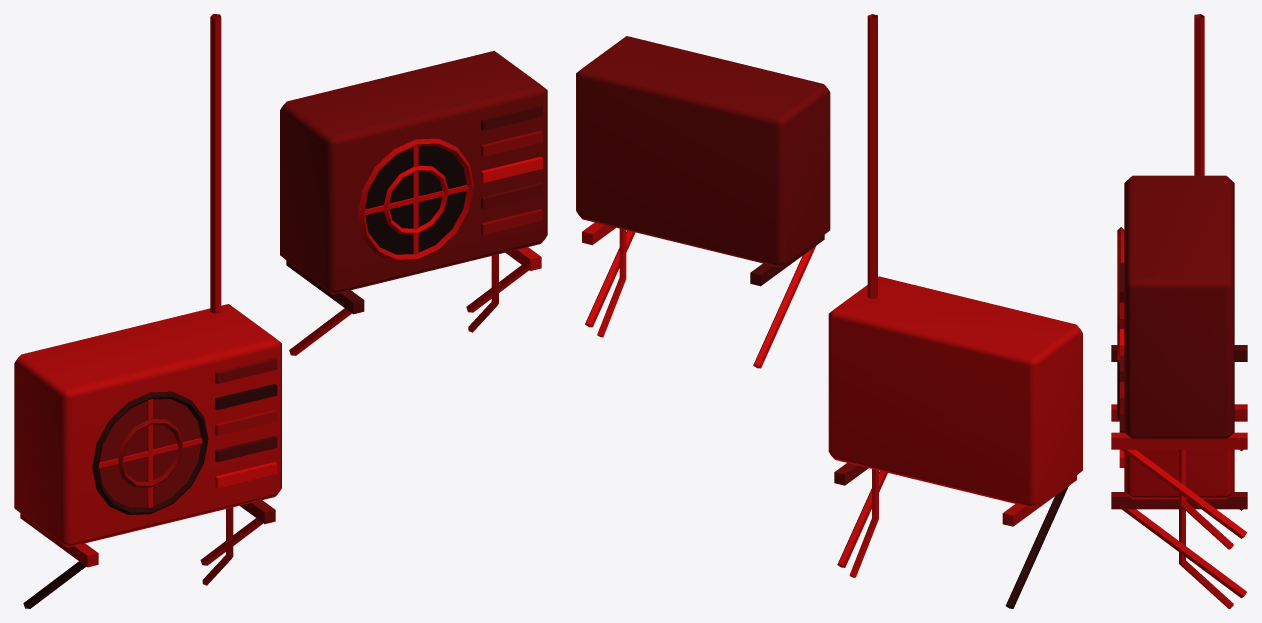
The model's file is ac_unit_b.glb.
The picture shows the model from 3 angles, left to right: view 1: azimuth 30°, elevation 25°; view 2: azimuth 150°, elevation 25°; view 3: azimuth 270°, elevation 25°; orthographic projection. The views are drawn at different scales.
Parts seen in each view (by area): view 1: ac_unit_b; view 2: ac_unit_b; view 3: ac_unit_b.
Boxes of the visible parts, left/top/right/bottom form: ac_unit_b: left=14, top=14, right=547, bottom=608; ac_unit_b: left=576, top=14, right=1082, bottom=608; ac_unit_b: left=1111, top=14, right=1247, bottom=608.
Size of the model in its own units: 1.76 by 2.01 by 0.42.
